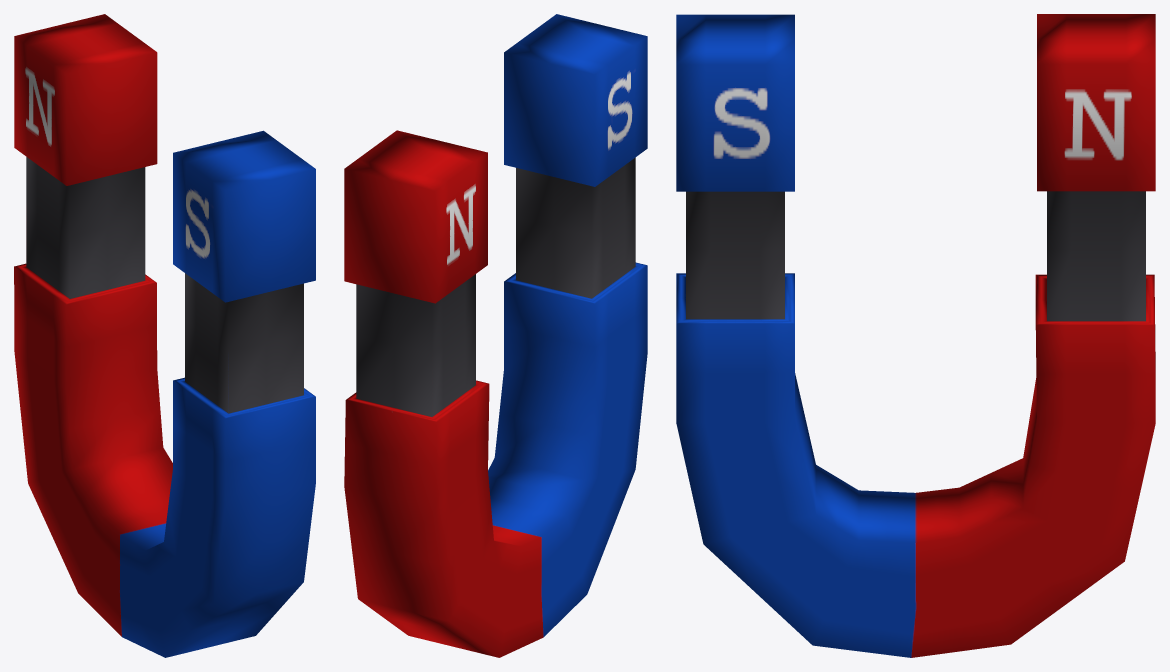
Rendered from Magnet.fbx.
3 views of the same model, side by side, from view 1: azimuth 30°, elevation 25°; view 2: azimuth 150°, elevation 25°; view 3: azimuth 270°, elevation 25° (orthographic). The views are drawn at different scales.
Visible parts, largest first — view 1: Magnet; view 2: Magnet; view 3: Magnet.
Boxes of the visible parts, x1,y1,x2,y2 form: Magnet: (14,14,315,657); Magnet: (344,14,647,657); Magnet: (676,14,1155,657).
Bounding box in the file's own units: 84.21 × 460 × 336.
